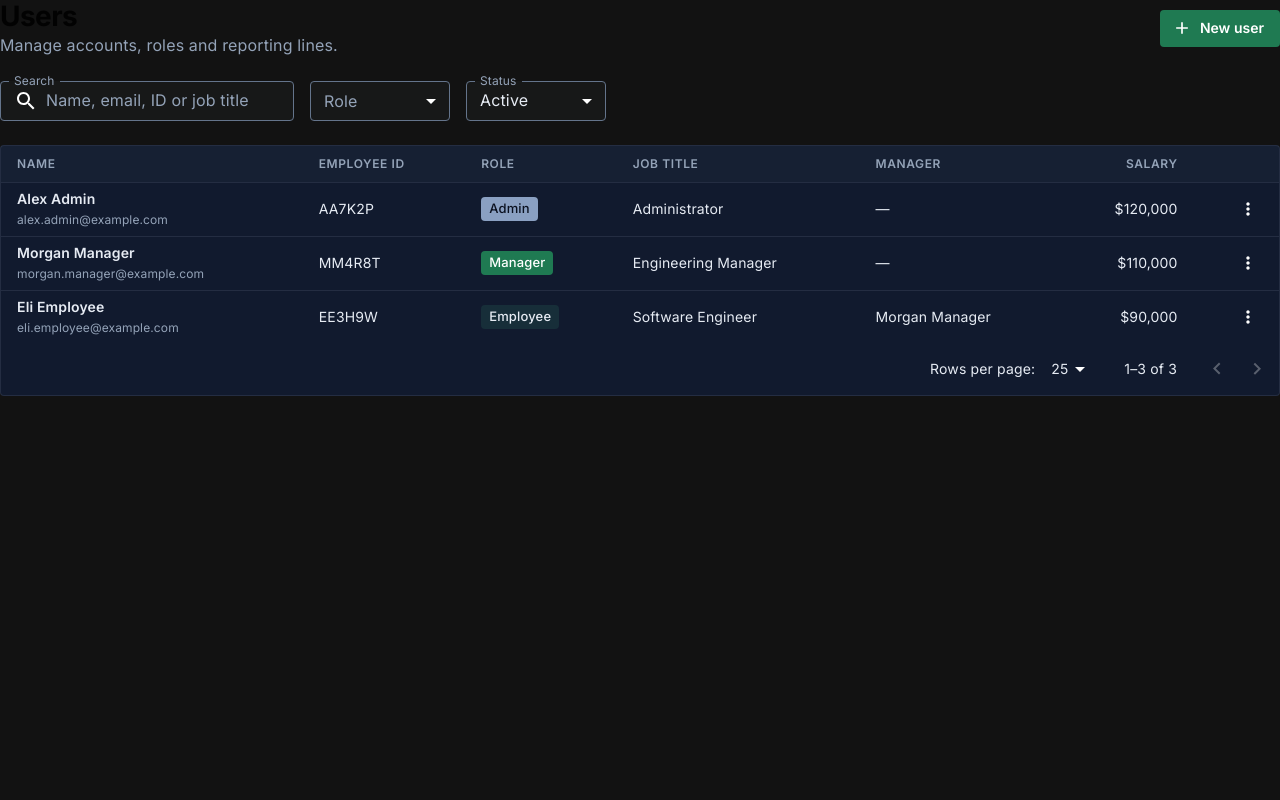
Scenario: UsersPage › deactivates a user after confirmation
The width and height of the screenshot is (1280, 800).
Click the button named "Actions for Eli Employee": (1248, 317) [1233, 302, 1263, 332]
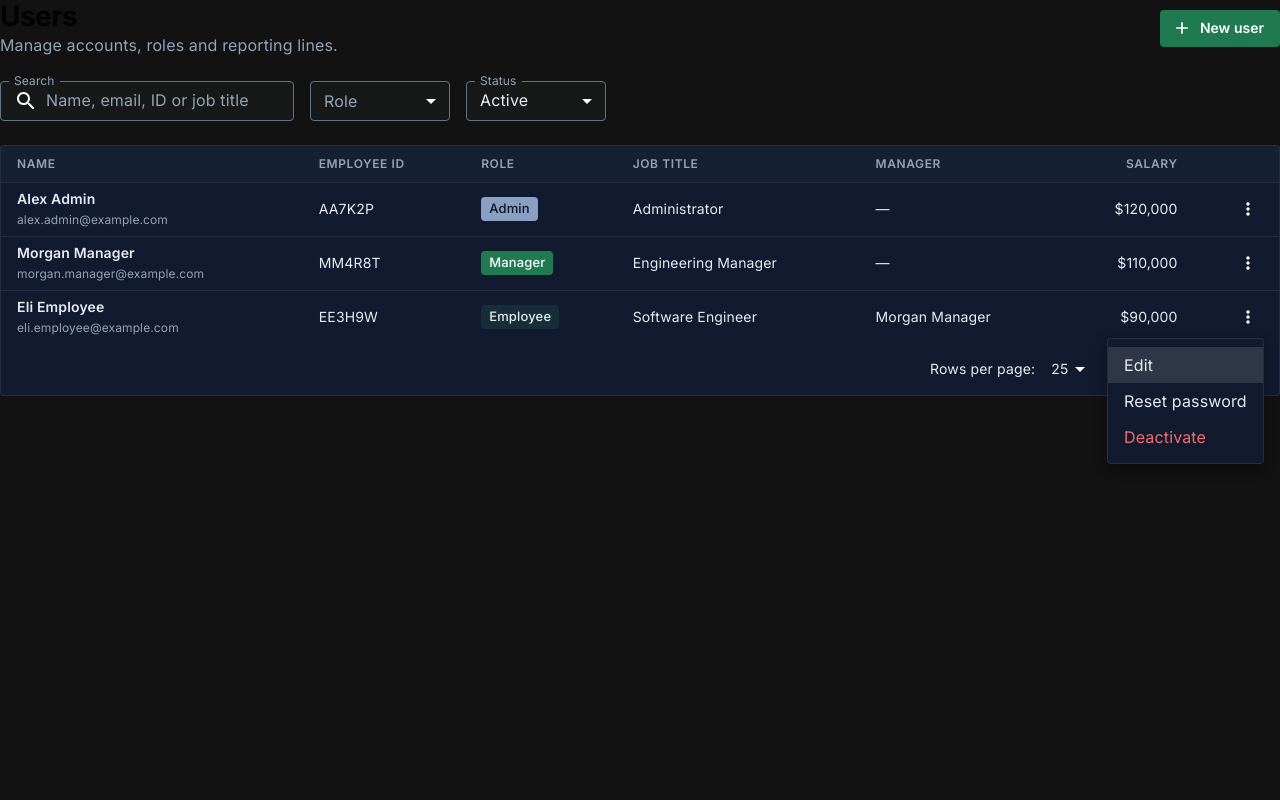
Click the menu item "Deactivate": (1165, 437) [1124, 427, 1206, 447]
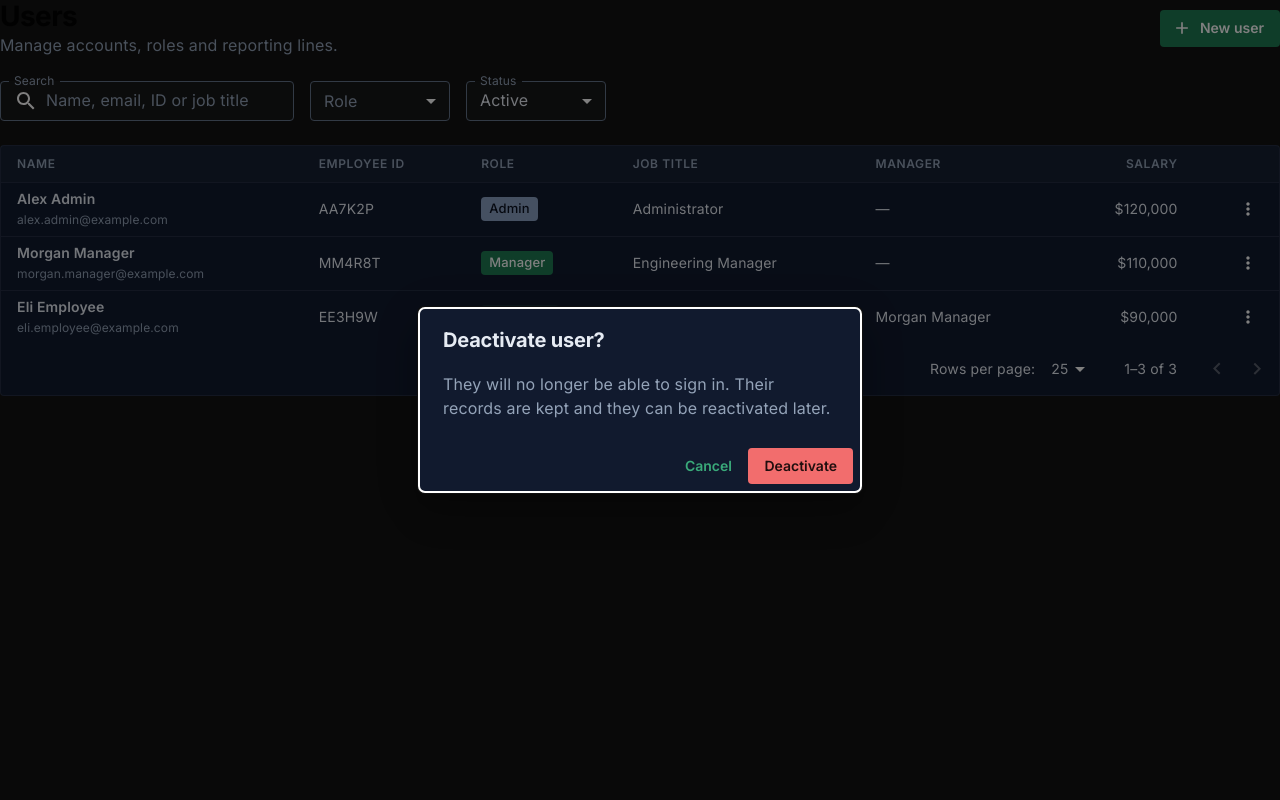
Click the button "Deactivate": (801, 466) [748, 448, 853, 484]
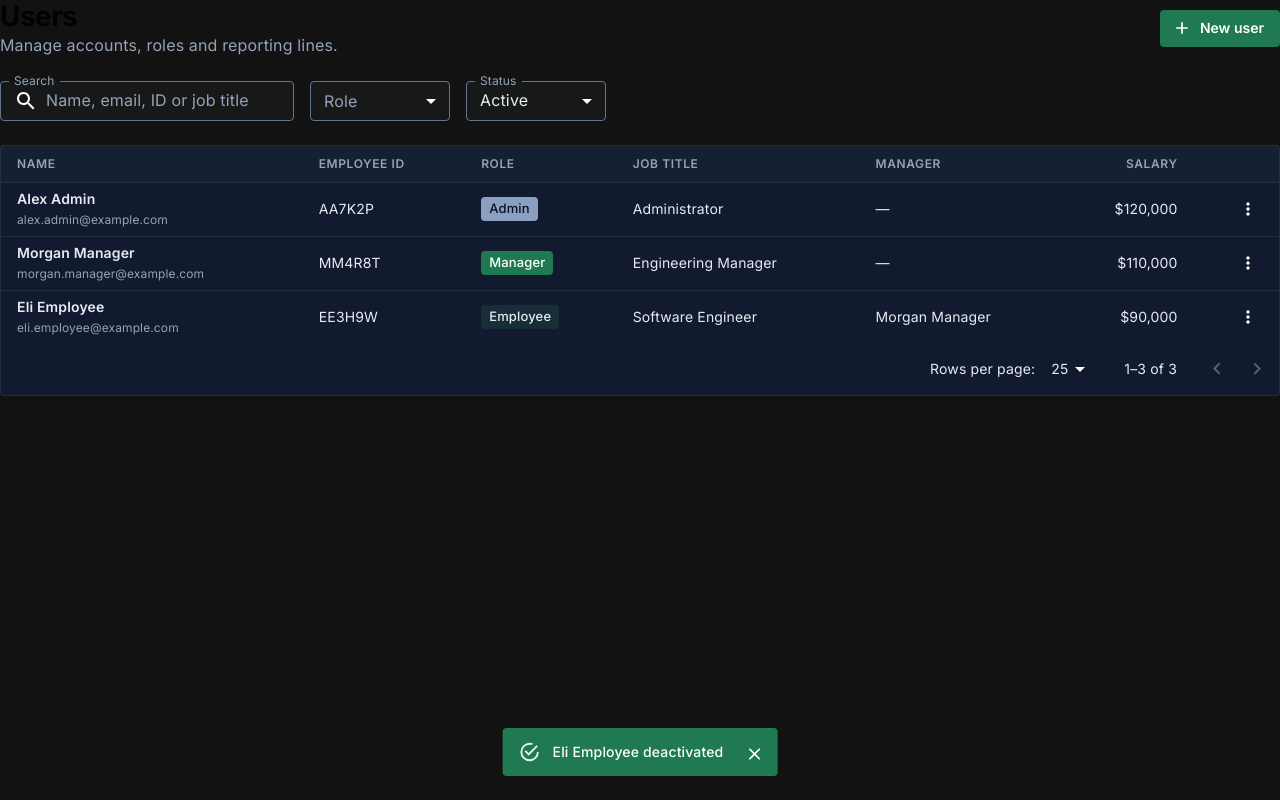
expect the text "Eli Employee deactivated" is shown: met, box [553, 743, 723, 760]
